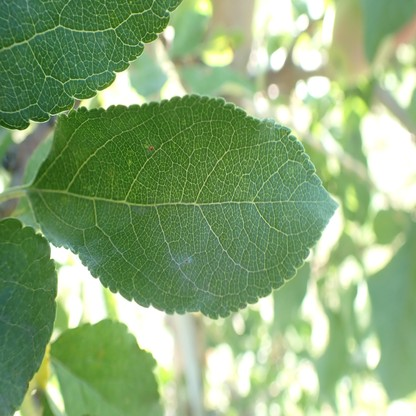powder: (2, 346, 21, 416), (78, 242, 103, 270), (44, 228, 74, 251), (173, 254, 191, 268)
